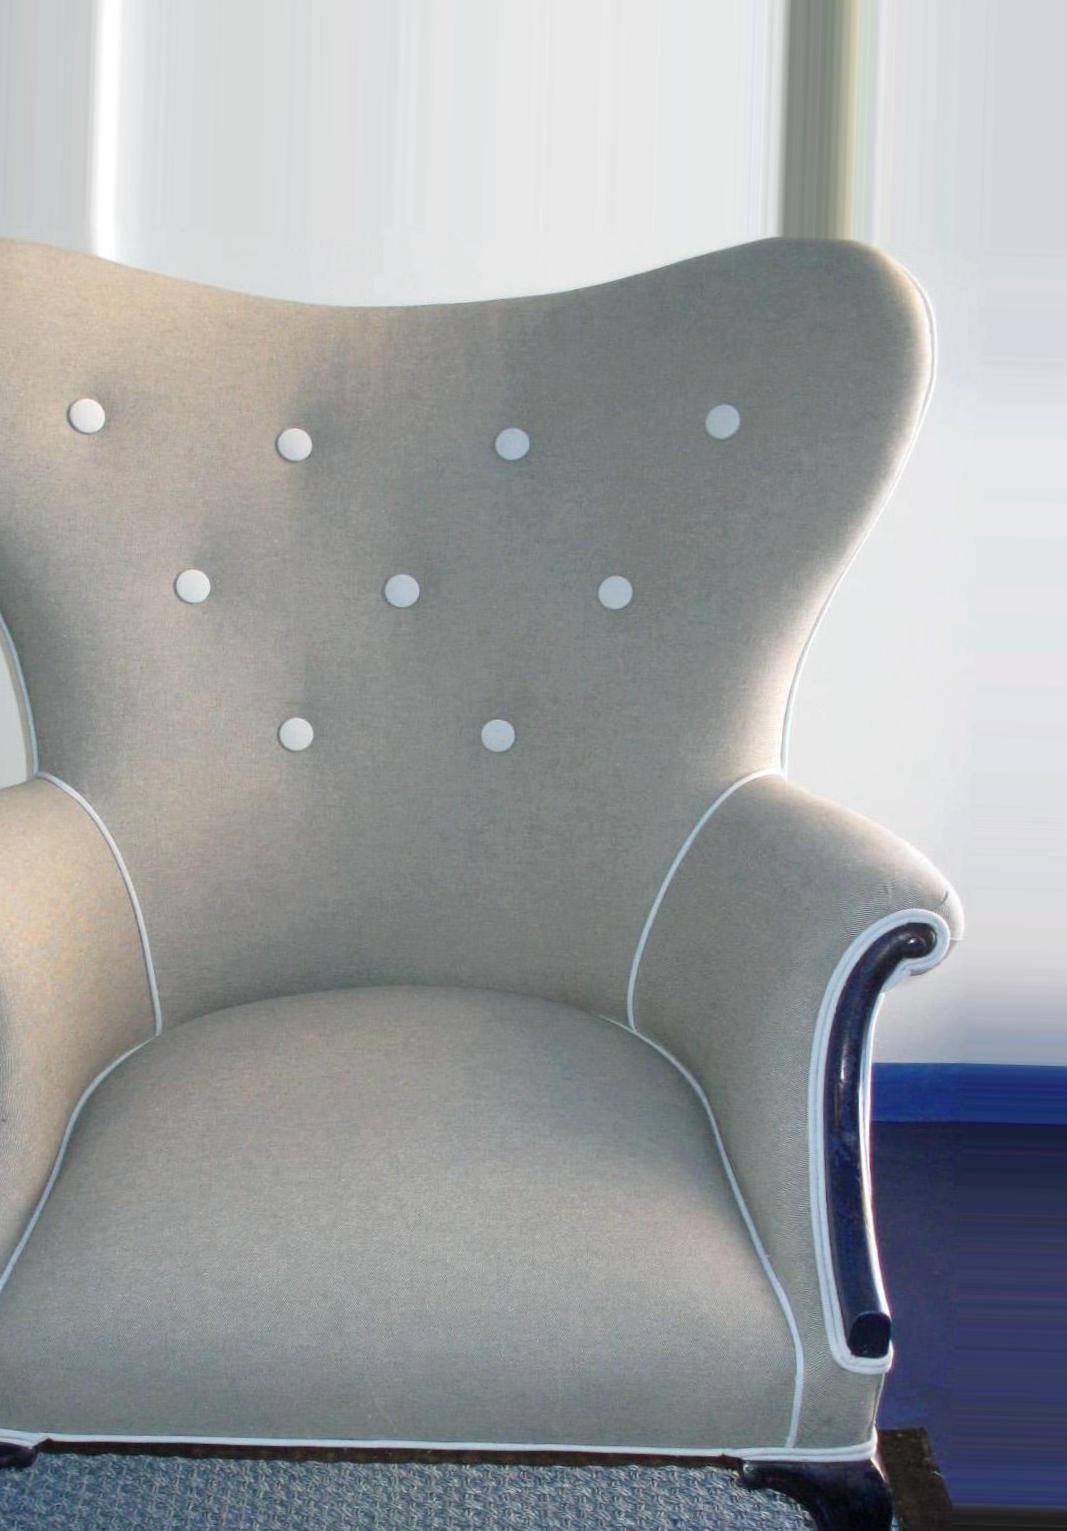chair: (1, 233, 963, 1531)
